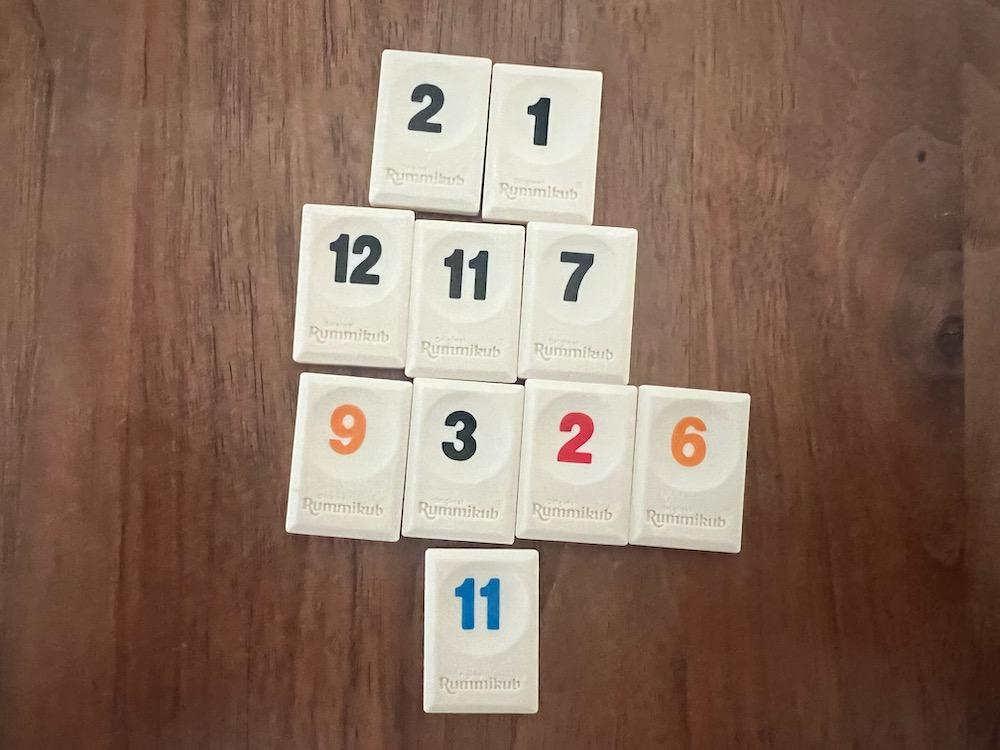black_1: (484, 64, 602, 225)
black_11: (406, 219, 525, 383)
black_12: (295, 203, 414, 367)
black_2: (369, 51, 492, 215)
black_3: (402, 379, 523, 543)
black_7: (518, 223, 637, 385)
blue_11: (424, 549, 539, 713)
orange_6: (631, 385, 750, 553)
orange_9: (285, 373, 412, 541)
red_2: (517, 381, 637, 545)
